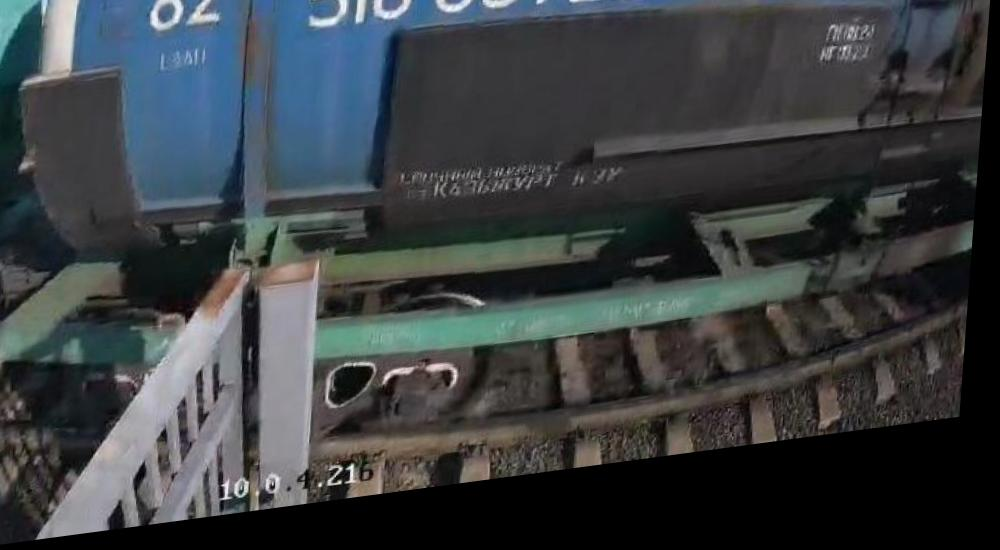Wagon-number: (305, 0, 665, 56)
